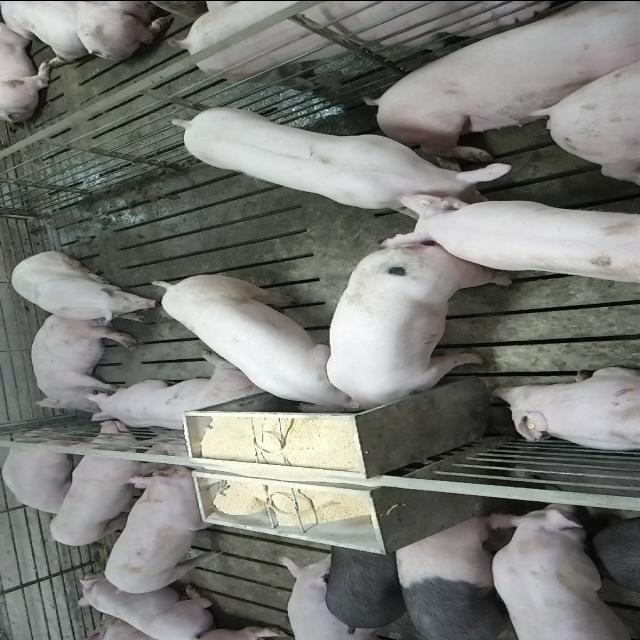Feeding: (326, 246, 510, 420), (143, 268, 356, 411)
Lateral_lying: (29, 311, 138, 414)
Sitting: (7, 250, 160, 324)
Standing: (170, 104, 514, 218), (171, 0, 563, 91), (400, 194, 640, 288), (483, 504, 640, 638), (392, 513, 522, 638), (100, 466, 224, 596), (323, 535, 411, 633)
Sternal_lying: (85, 356, 268, 434), (490, 366, 640, 453), (74, 576, 222, 638), (2, 434, 88, 514)
